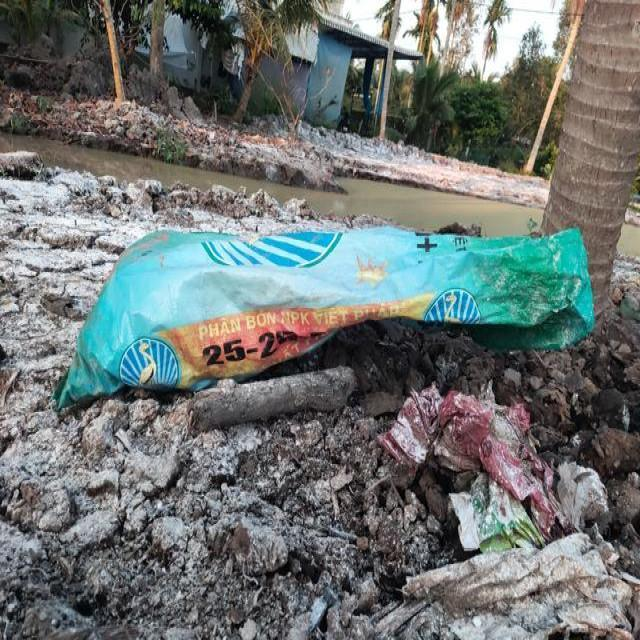gunny_bag: (55, 225, 595, 409)
